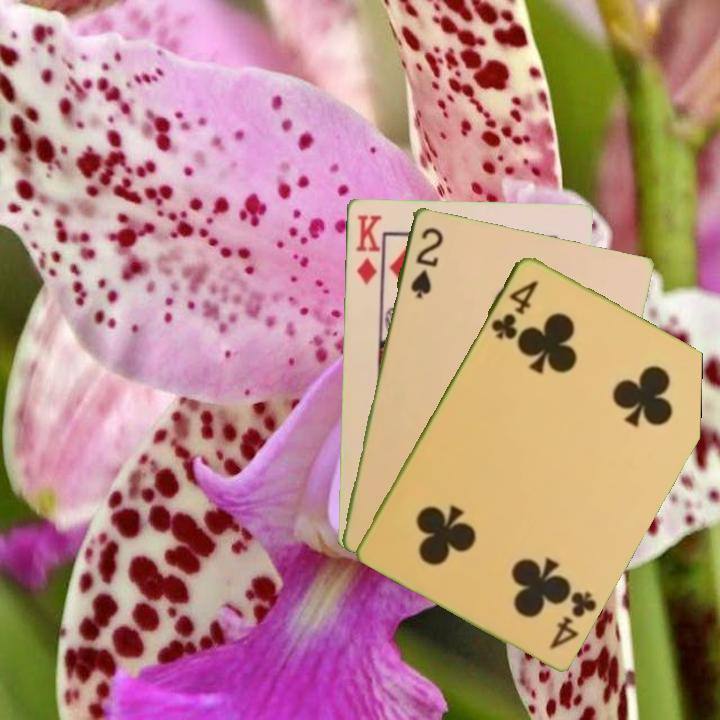2s: (407, 223, 446, 301)
4c: (487, 276, 541, 342), (545, 587, 600, 651)
Kd: (351, 210, 383, 287)
